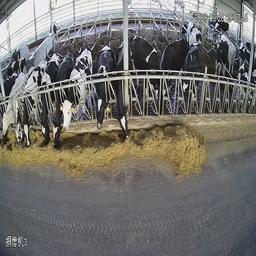cow: (128, 35, 166, 110), (61, 47, 93, 132), (175, 46, 206, 102), (114, 38, 130, 136), (38, 56, 55, 145), (96, 44, 113, 131), (23, 62, 37, 144), (1, 71, 15, 140), (53, 59, 62, 151), (13, 73, 23, 148), (235, 68, 256, 100), (180, 21, 204, 46), (213, 42, 228, 78), (187, 5, 208, 26)
